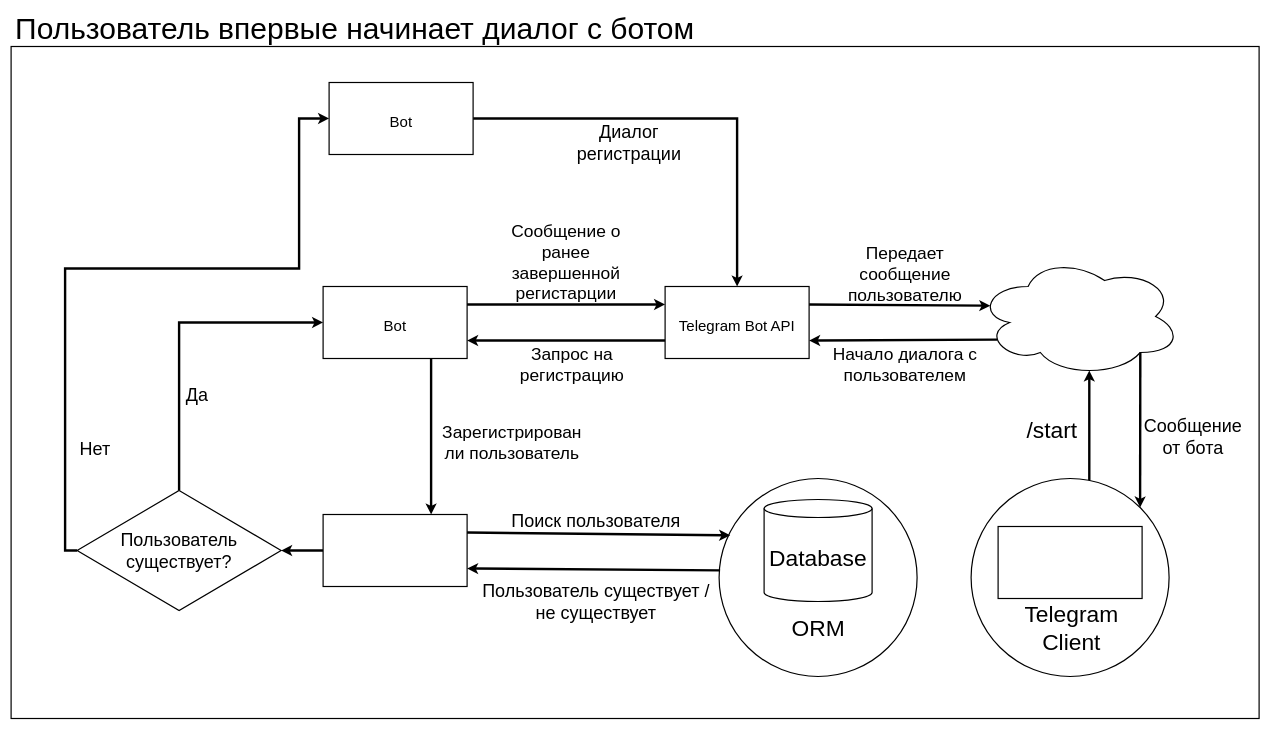
This 1270x729 diagram has some shape labels left out. The centre of each missing label's shape, as x and y in pixels:
API: point (394, 550)
Telegram Server: point (1078, 316)
User: point (1069, 562)
